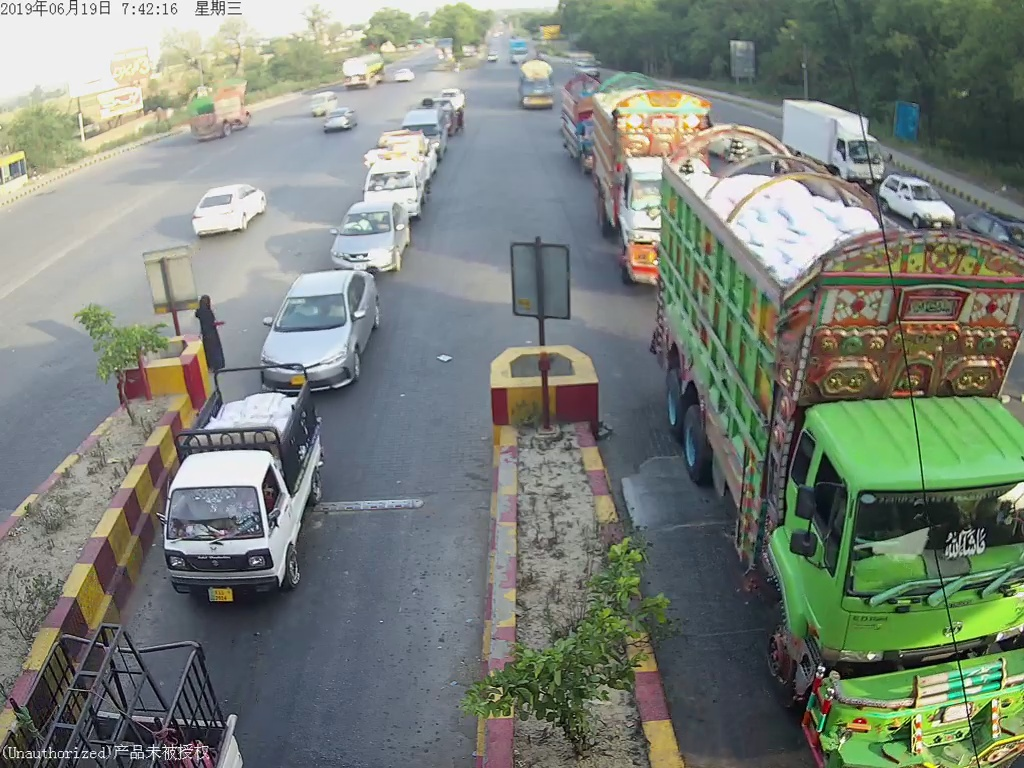Cat-1: (168, 383, 331, 598), (261, 270, 372, 380)
Cat-4: (629, 131, 1021, 768)
